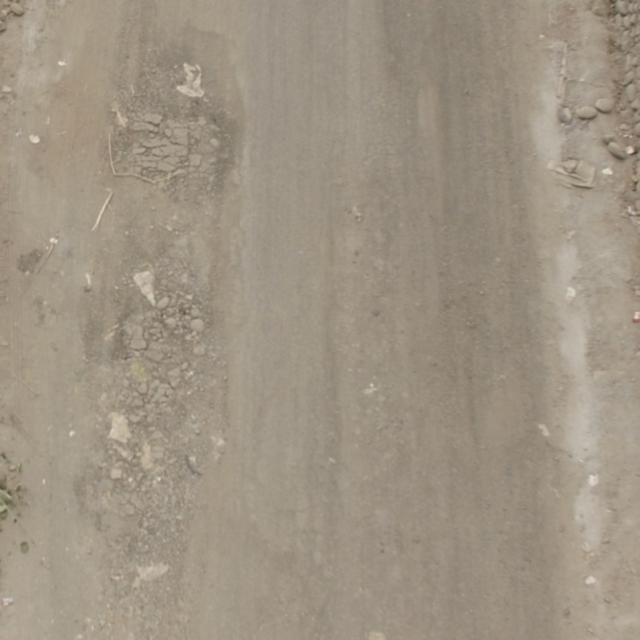BACHE: (78, 411, 227, 569), (87, 253, 229, 399), (100, 68, 243, 210)
